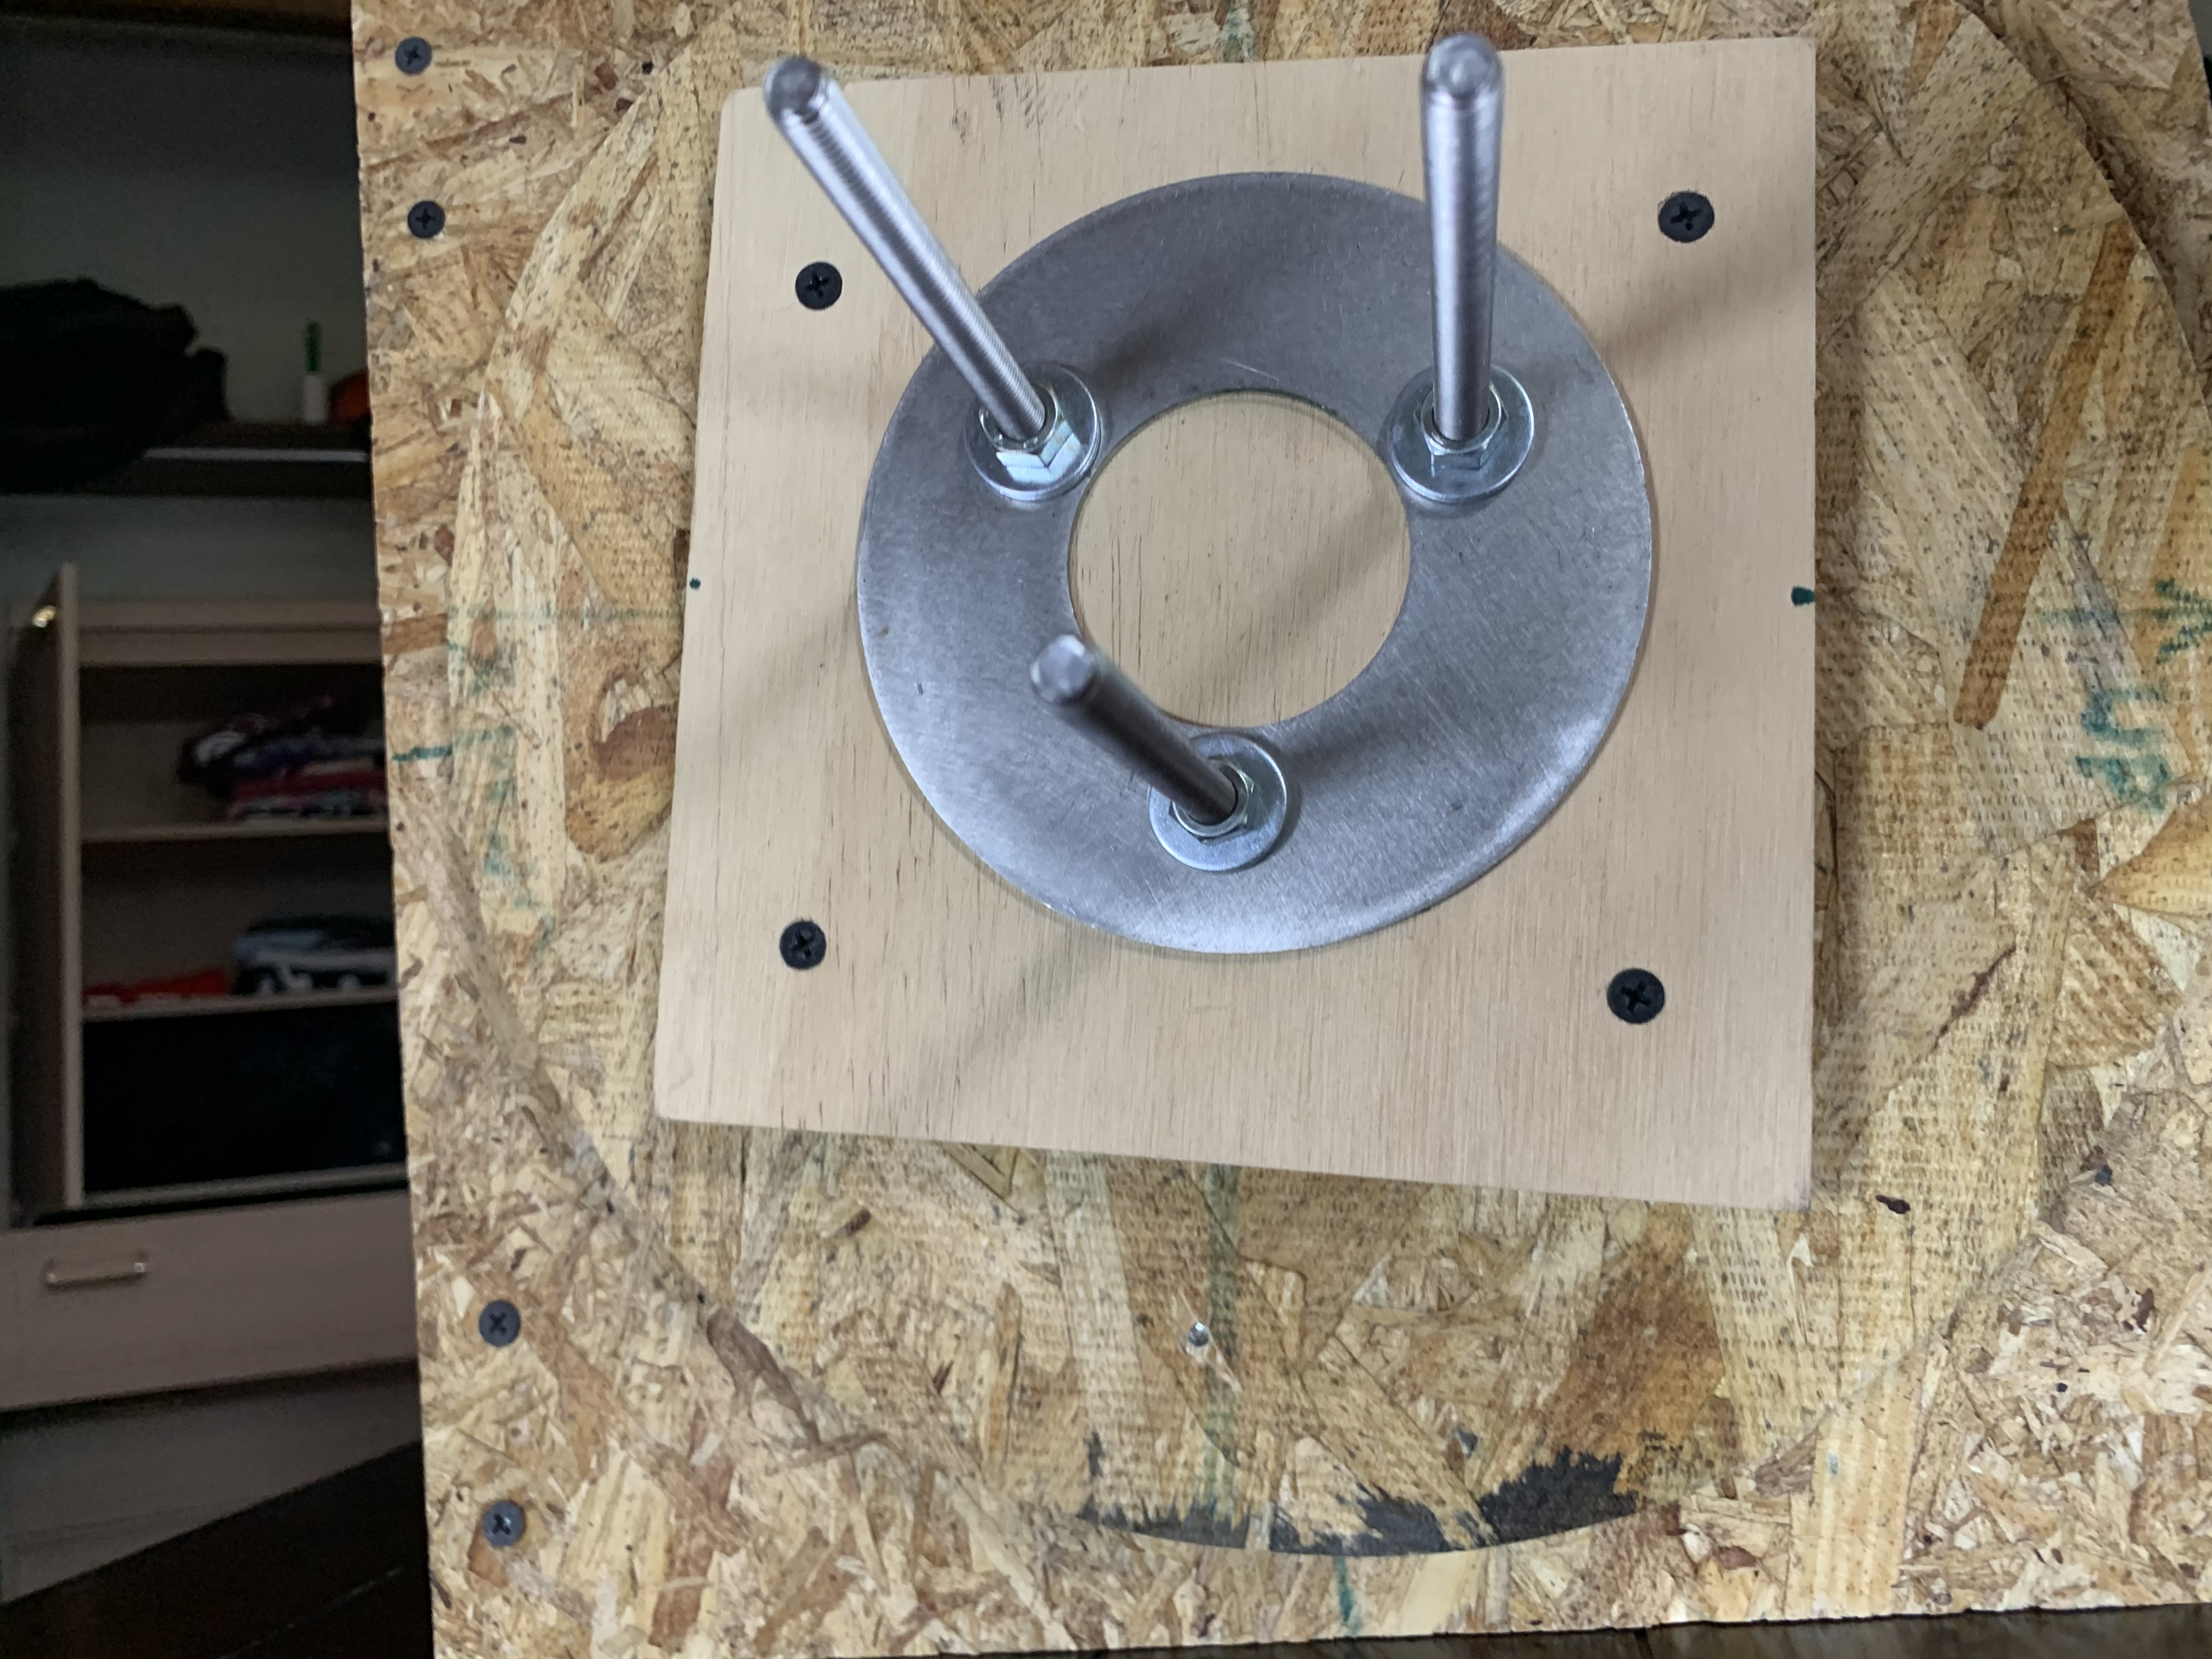bolt: (1379, 357, 1534, 507), (1144, 732, 1299, 875), (960, 361, 1101, 498)
